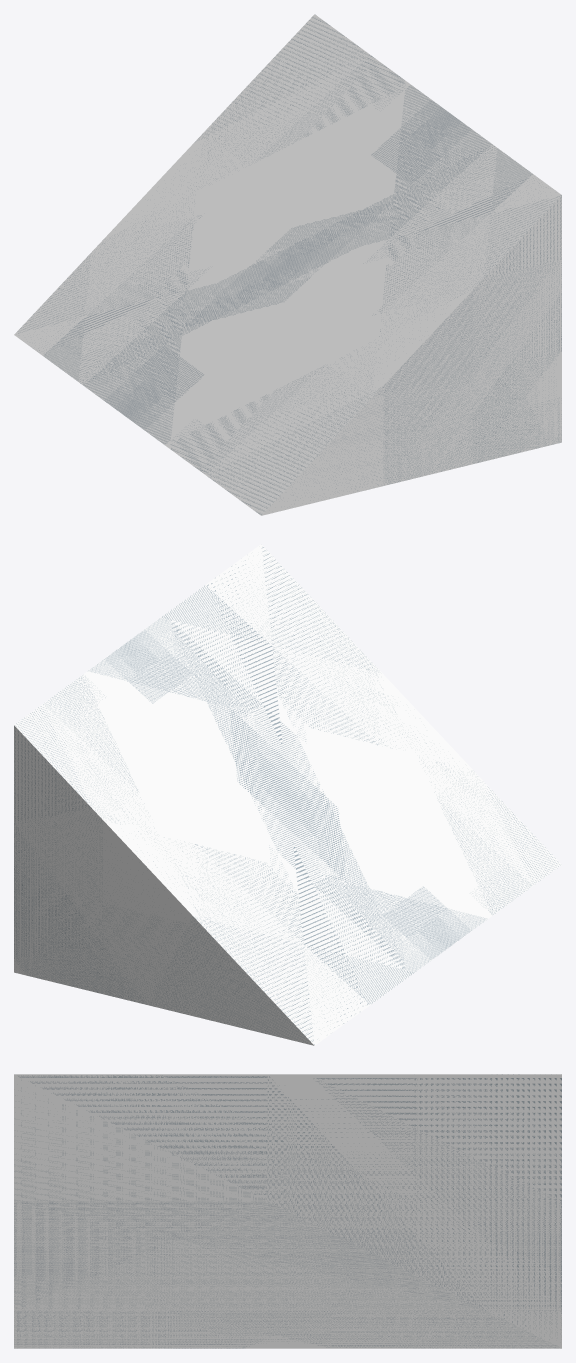
Rendered from ramp.dae.
3 views of the same model, one above another, from view 1: azimuth 30°, elevation 25°; view 2: azimuth 150°, elevation 25°; view 3: azimuth 270°, elevation 25° (orthographic). The views are drawn at different scales.
Parts seen in each view (by area): view 1: SketchUp; view 2: SketchUp; view 3: SketchUp.
Boxes of the visible parts, box(x1,y1,x2,y2) form: SketchUp: box(14, 14, 561, 515); SketchUp: box(14, 544, 561, 1045); SketchUp: box(14, 1074, 561, 1348).
Bounding box in the file's own units: 336 × 479 × 265.
